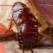cockroach: (10, 1, 40, 52)
